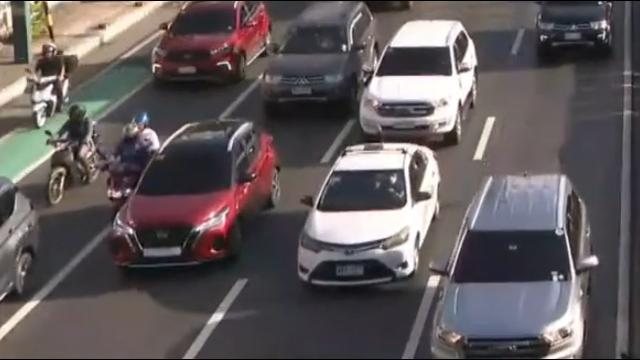car: (431, 172, 593, 360), (110, 119, 281, 270), (295, 140, 440, 288), (360, 19, 480, 146), (264, 1, 380, 112), (145, 0, 272, 86), (530, 0, 616, 58)
motorcycle: (107, 113, 162, 223), (45, 104, 100, 202), (26, 40, 76, 128)
